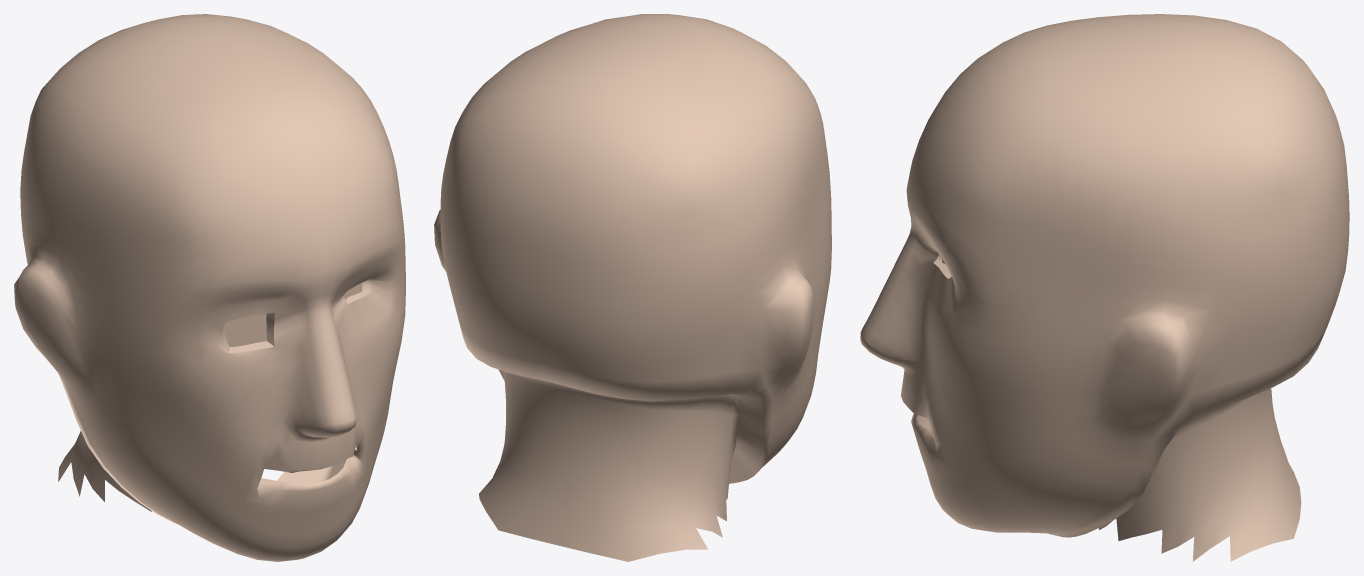
The model's file is Skull_FBX.fbx.
3 renders of one model, left to right at view 1: azimuth 30°, elevation 25°; view 2: azimuth 150°, elevation 25°; view 3: azimuth 270°, elevation 25°, orthographic. The views are drawn at different scales.
Visible parts, largest first — view 1: BasicHead:basicHead; view 2: BasicHead:basicHead; view 3: BasicHead:basicHead.
Part boxes in pixels (x1,y1,x2,y2): BasicHead:basicHead: (14,14,405,561); BasicHead:basicHead: (434,14,831,561); BasicHead:basicHead: (860,14,1349,561).
Bounding box in the file's own units: 109 × 131 × 119.
